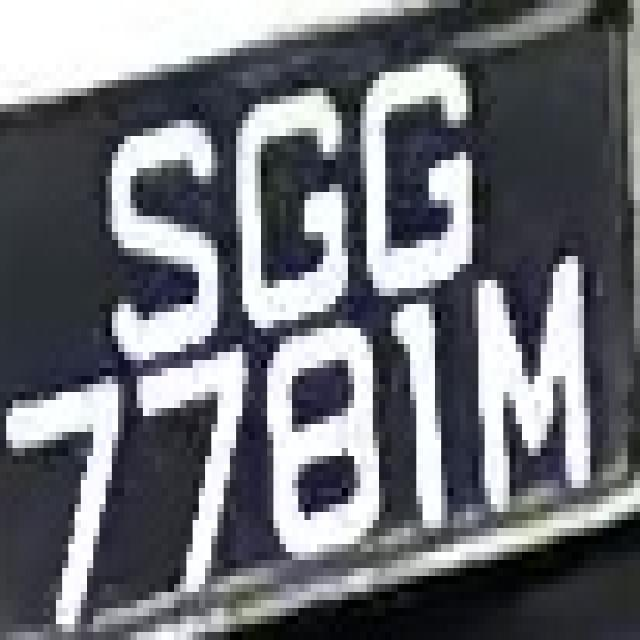1: (385, 272, 454, 576)
7: (124, 336, 274, 616), (6, 360, 137, 632)
8: (261, 312, 398, 568)
G: (348, 40, 497, 320), (224, 80, 354, 336)
M: (441, 264, 609, 544)
S: (87, 112, 224, 360)
